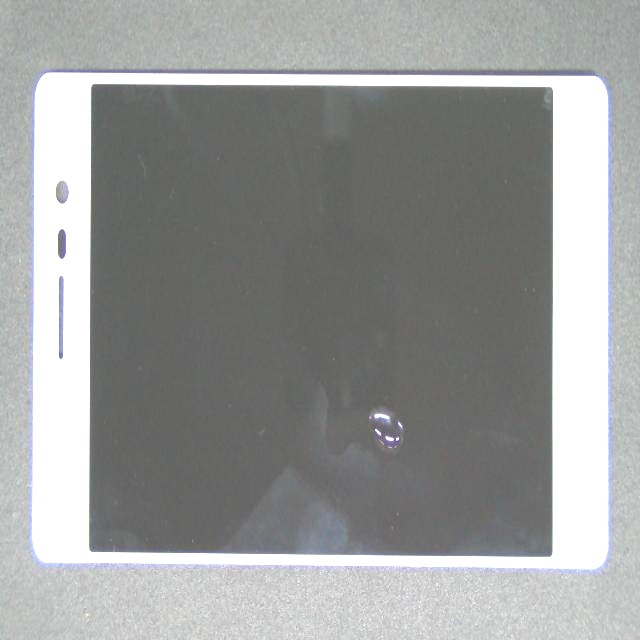oil: (204, 215, 607, 626)
